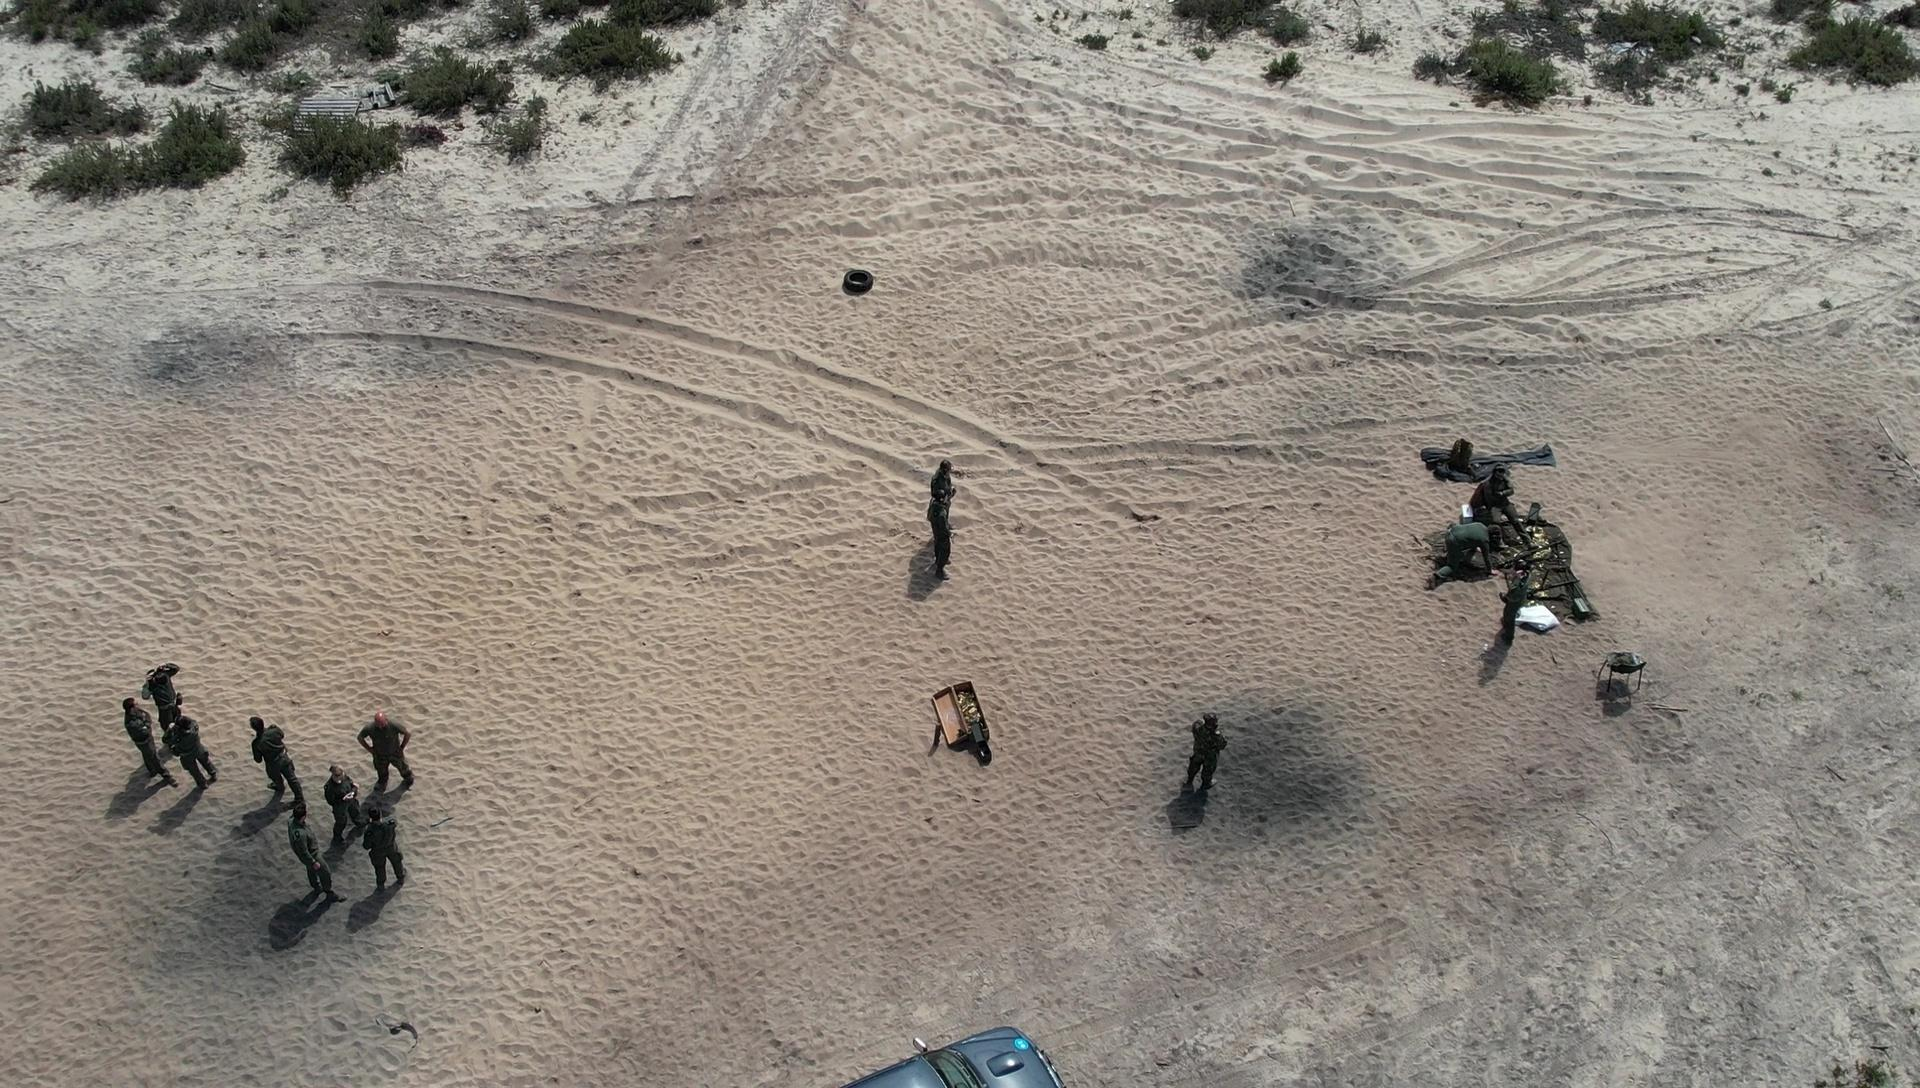Soldier: (280, 797, 349, 913), (1414, 513, 1514, 588), (353, 806, 419, 915), (357, 706, 429, 804), (309, 757, 382, 849), (158, 704, 231, 794), (245, 708, 307, 802), (117, 695, 177, 790), (924, 489, 969, 586), (1491, 567, 1538, 659), (1187, 702, 1226, 802), (1462, 459, 1519, 526), (138, 658, 189, 716), (922, 448, 971, 500)
